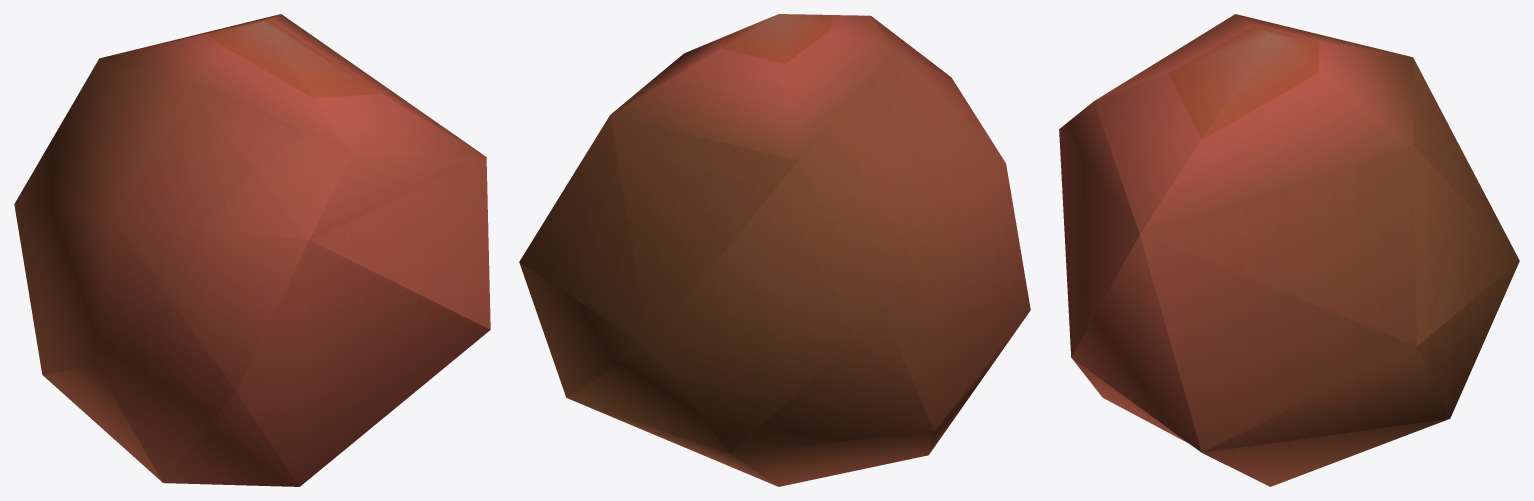
The picture shows the model from 3 angles, left to right: view 1: azimuth 30°, elevation 25°; view 2: azimuth 150°, elevation 25°; view 3: azimuth 270°, elevation 25°; orthographic projection. The views are drawn at different scales.
Visible parts, largest first — view 1: Coconut; view 2: Coconut; view 3: Coconut.
Part boxes in pixels (x1,y1,x2,y2): Coconut: (14, 14, 490, 486); Coconut: (519, 14, 1030, 486); Coconut: (1059, 14, 1519, 486).
Size of the model in its own units: 0.9681 by 1.08 by 1.
1 material, 1 textured.
